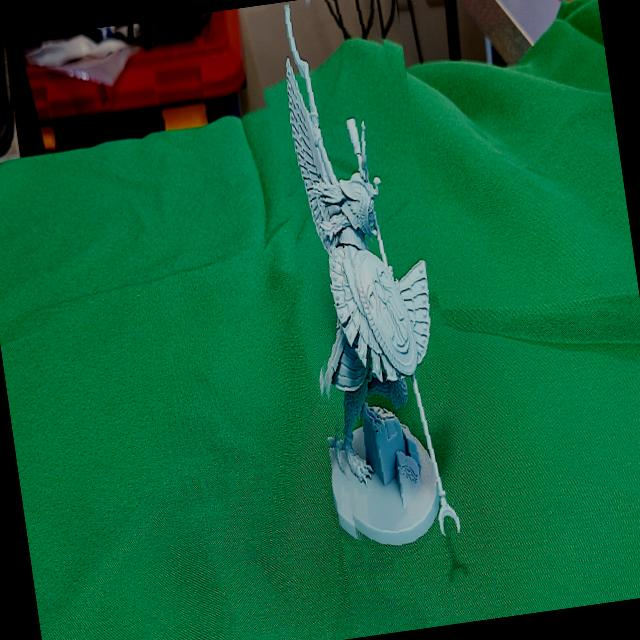isis: (255, 0, 493, 640)
